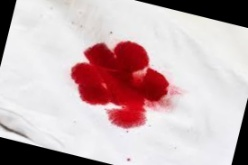blood: (61, 29, 181, 136)
